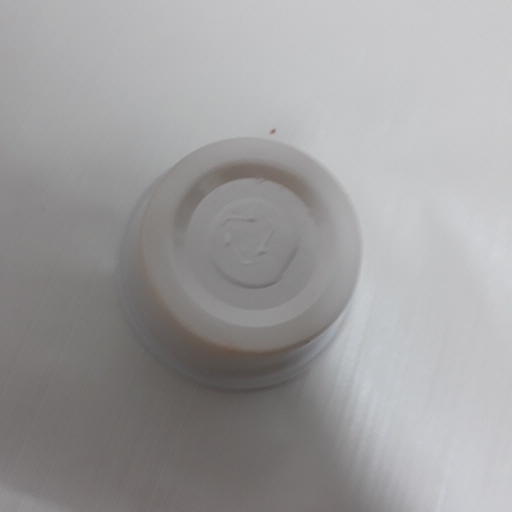Plastic_5: (112, 133, 370, 397)
